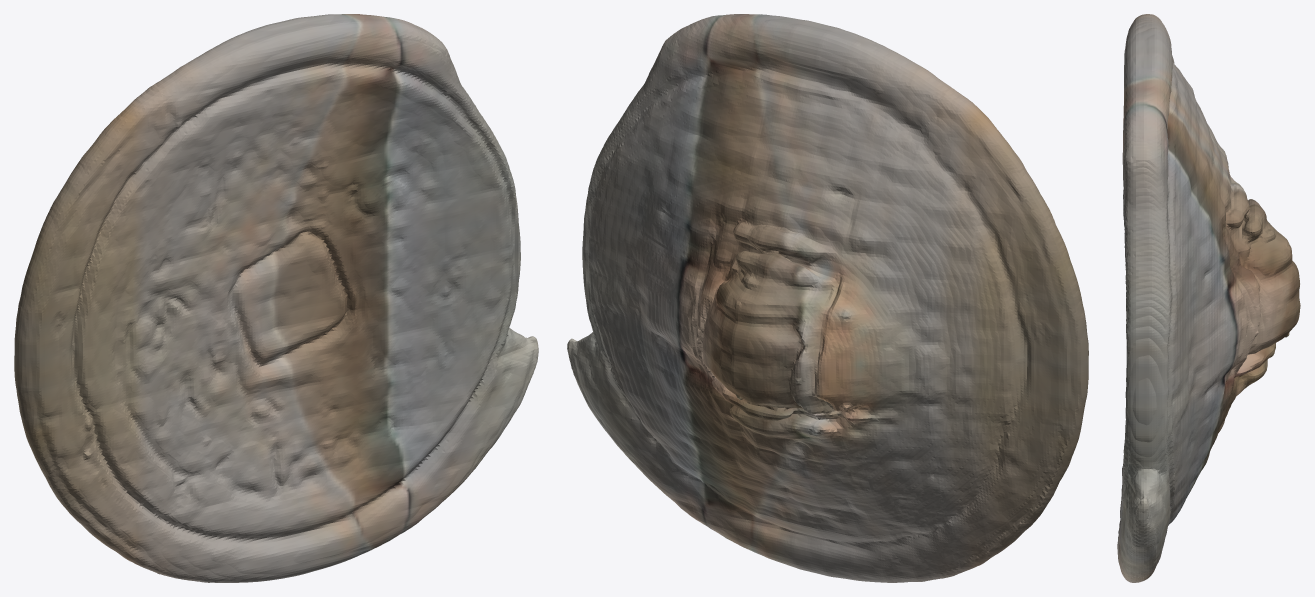
3 views of the same model, side by side, from view 1: azimuth 30°, elevation 25°; view 2: azimuth 150°, elevation 25°; view 3: azimuth 270°, elevation 25° (orthographic). The views are drawn at different scales.
Parts seen in each view (by area): view 1: geometry_0; view 2: geometry_0; view 3: geometry_0.
Part boxes in pixels (box(x1,y1,x2,y2)): geometry_0: box(14, 14, 538, 582); geometry_0: box(567, 14, 1088, 582); geometry_0: box(1117, 14, 1300, 582).
Bounding box in the file's own units: 0.9515 × 0.9553 × 0.3142.
